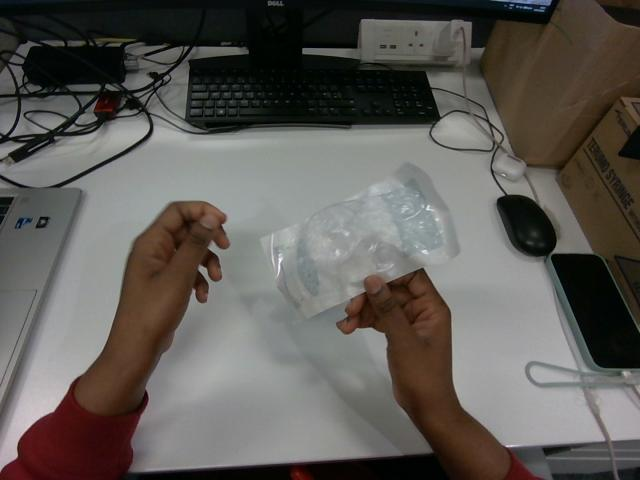gallipot: (261, 163, 459, 318)
